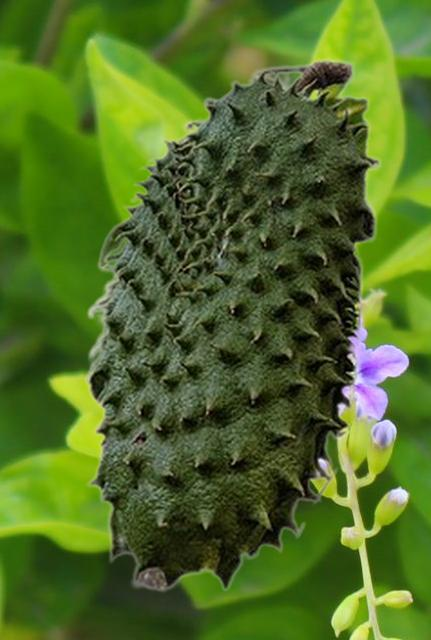guyabano: (83, 57, 380, 592)
